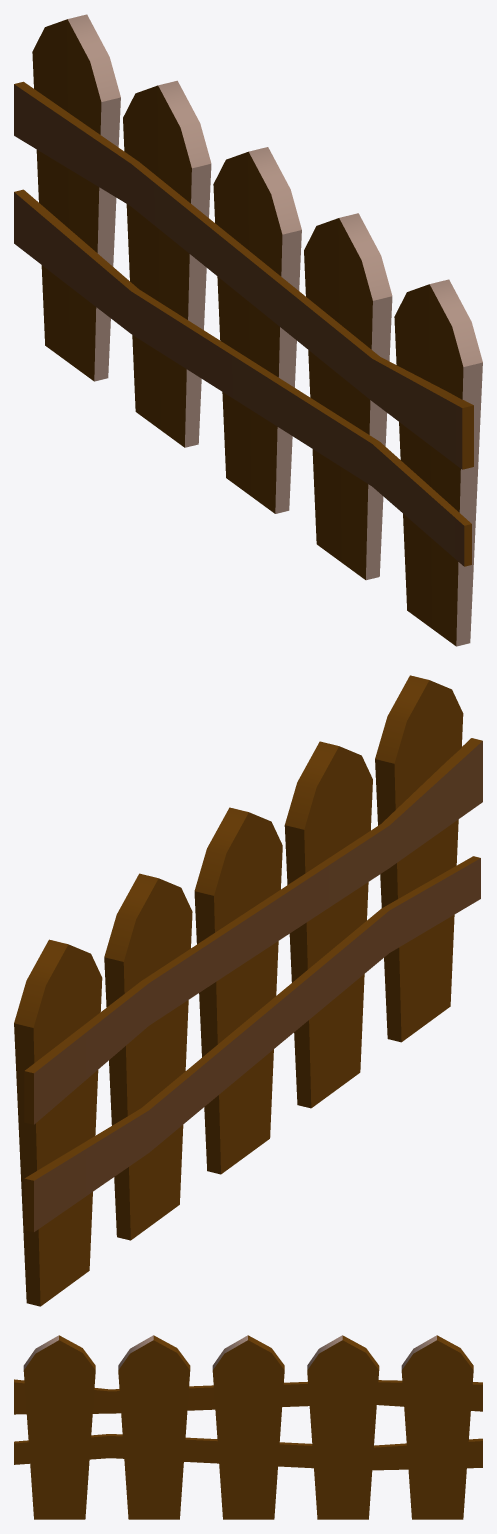
The model's file is Fence for House.fbx.
3 renders of one model, top to bottom at view 1: azimuth 30°, elevation 25°; view 2: azimuth 150°, elevation 25°; view 3: azimuth 270°, elevation 25°, orthographic. The views are drawn at different scales.
Parts seen in each view (by area): view 1: pasted__Fence; view 2: pasted__Fence; view 3: pasted__Fence.
Boxes of the visible parts, left/top/right/bottom form: pasted__Fence: left=14, top=14, right=482, bottom=646; pasted__Fence: left=14, top=675, right=482, bottom=1306; pasted__Fence: left=14, top=1335, right=482, bottom=1519.
Size of the model in its own units: 0.8375 by 9.23 by 21.74.
